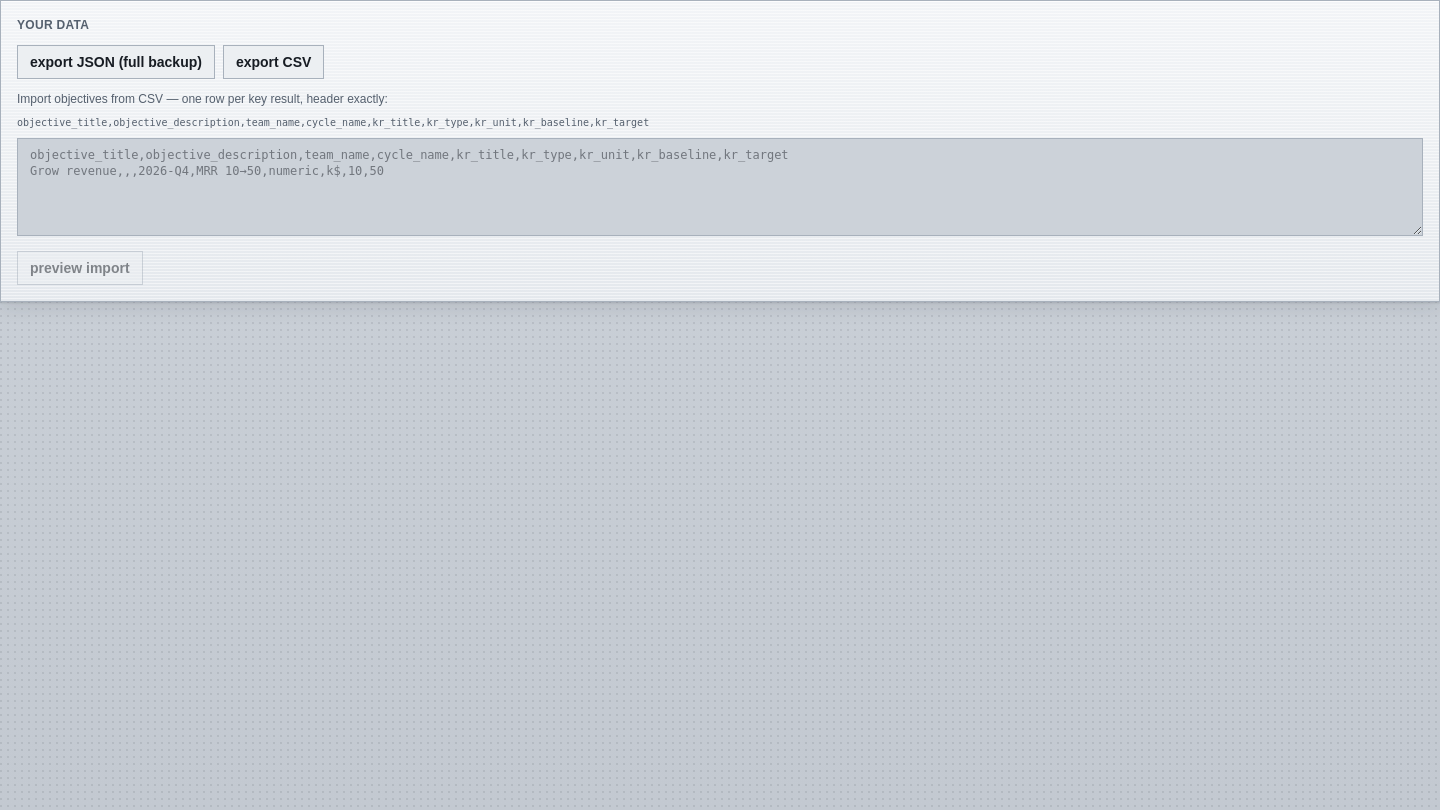
Test: DataCard import flow › previews, surfaces row errors, then commits a clean import
Note: bad preview: error row, no commit button
Type "header..." into the text box with test id "import-csv". click: [720, 187]
box: x1=17 y1=138 x2=1423 y2=236
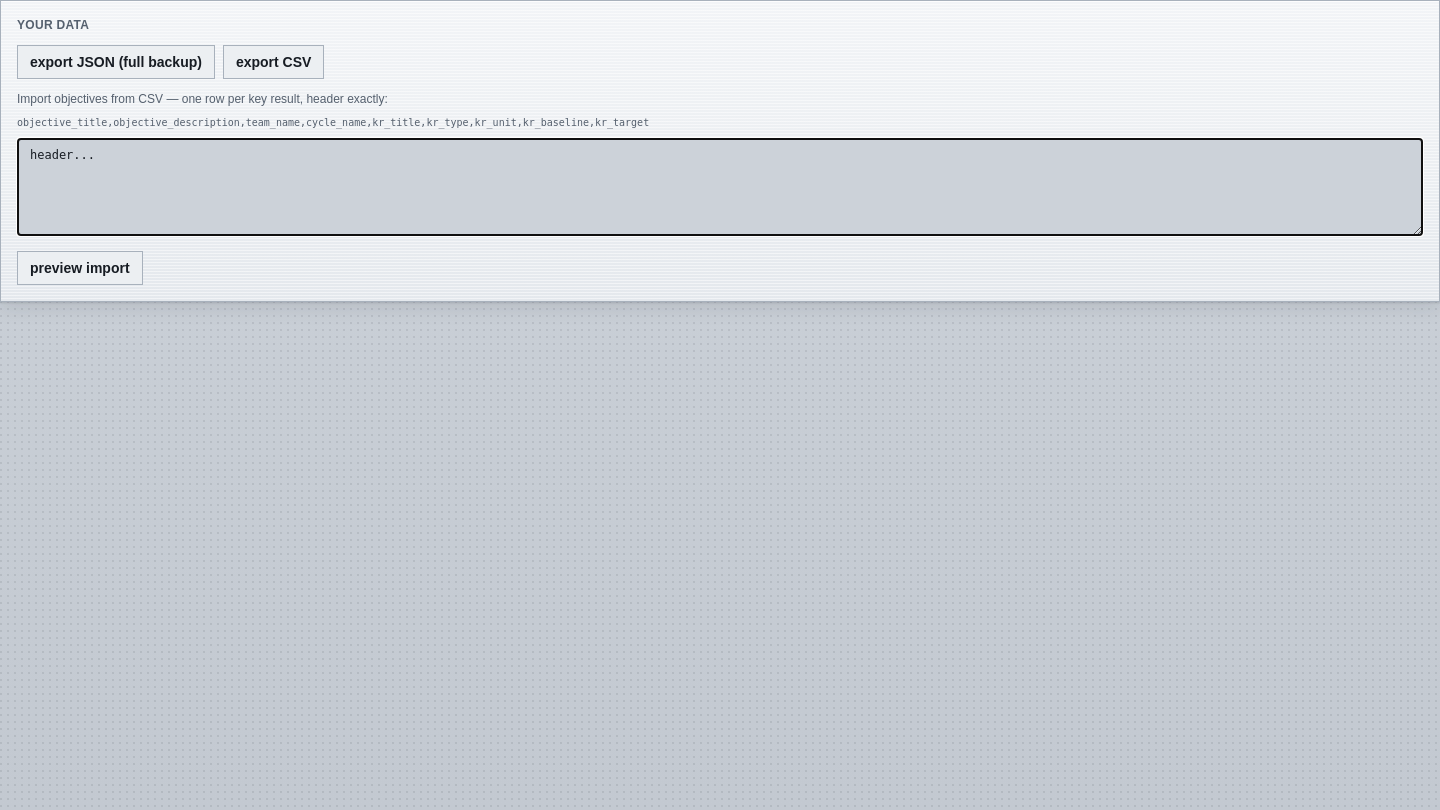
Click the button "preview import". click: [80, 268]
box: x1=17 y1=251 x2=143 y2=285
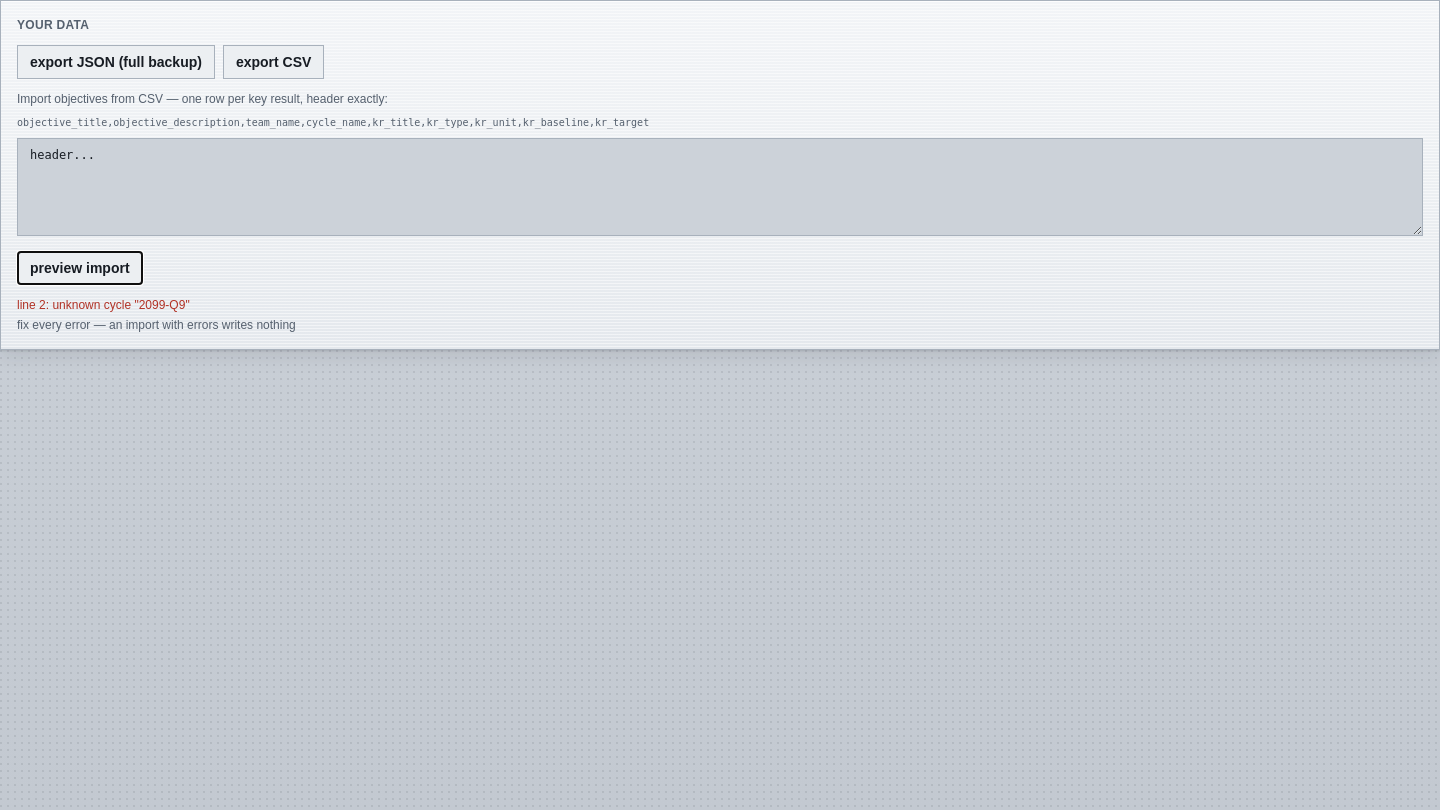
Check: the text "line 2: unknown cycle \"2099-Q9\"" is shown, box x1=17 y1=298 x2=190 y2=312
Note: clean preview → commit appears → import
Type "more" into the text box with test id "import-csv". click: [720, 187]
box: x1=17 y1=138 x2=1423 y2=236
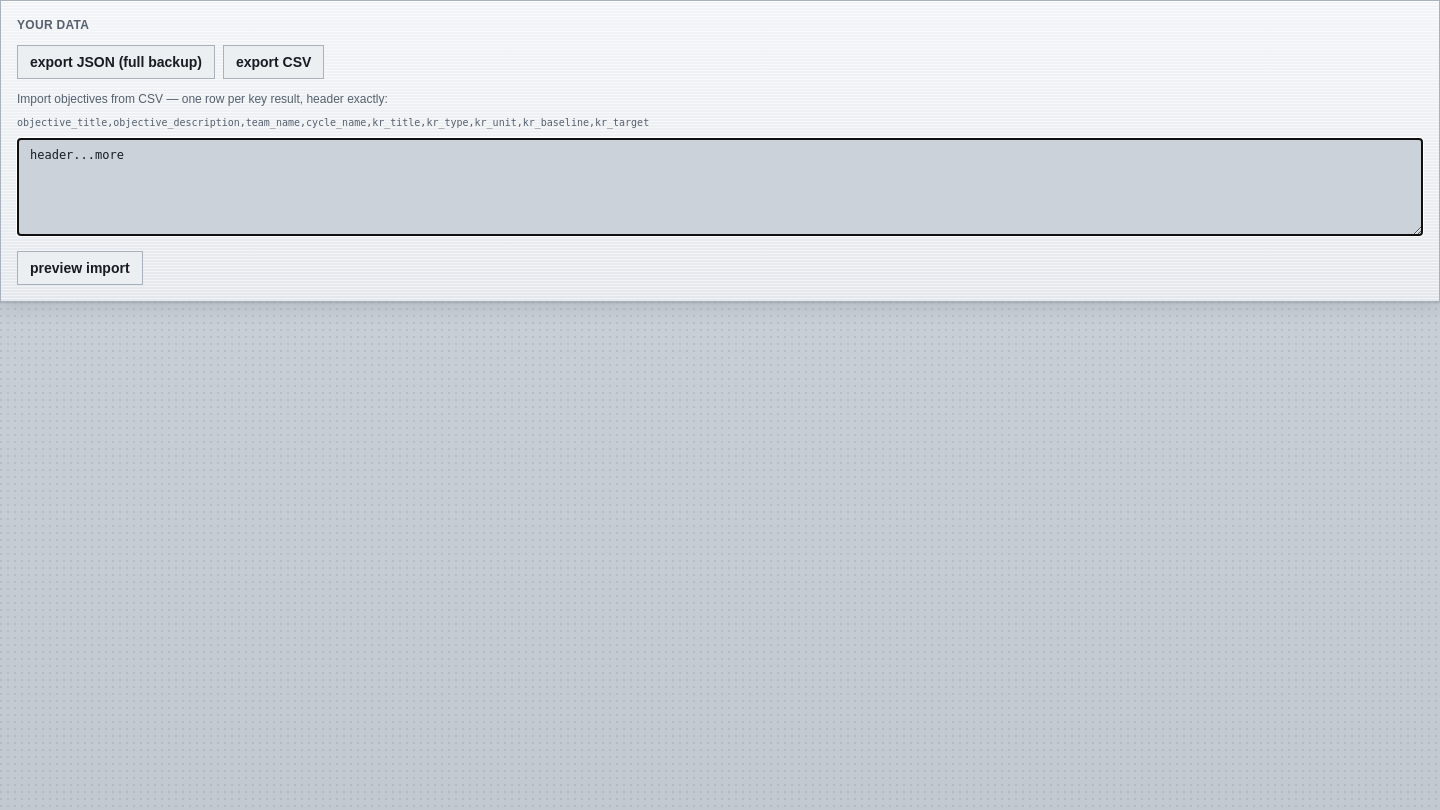
Click the button "preview import". click: [80, 268]
box: x1=17 y1=251 x2=143 y2=285
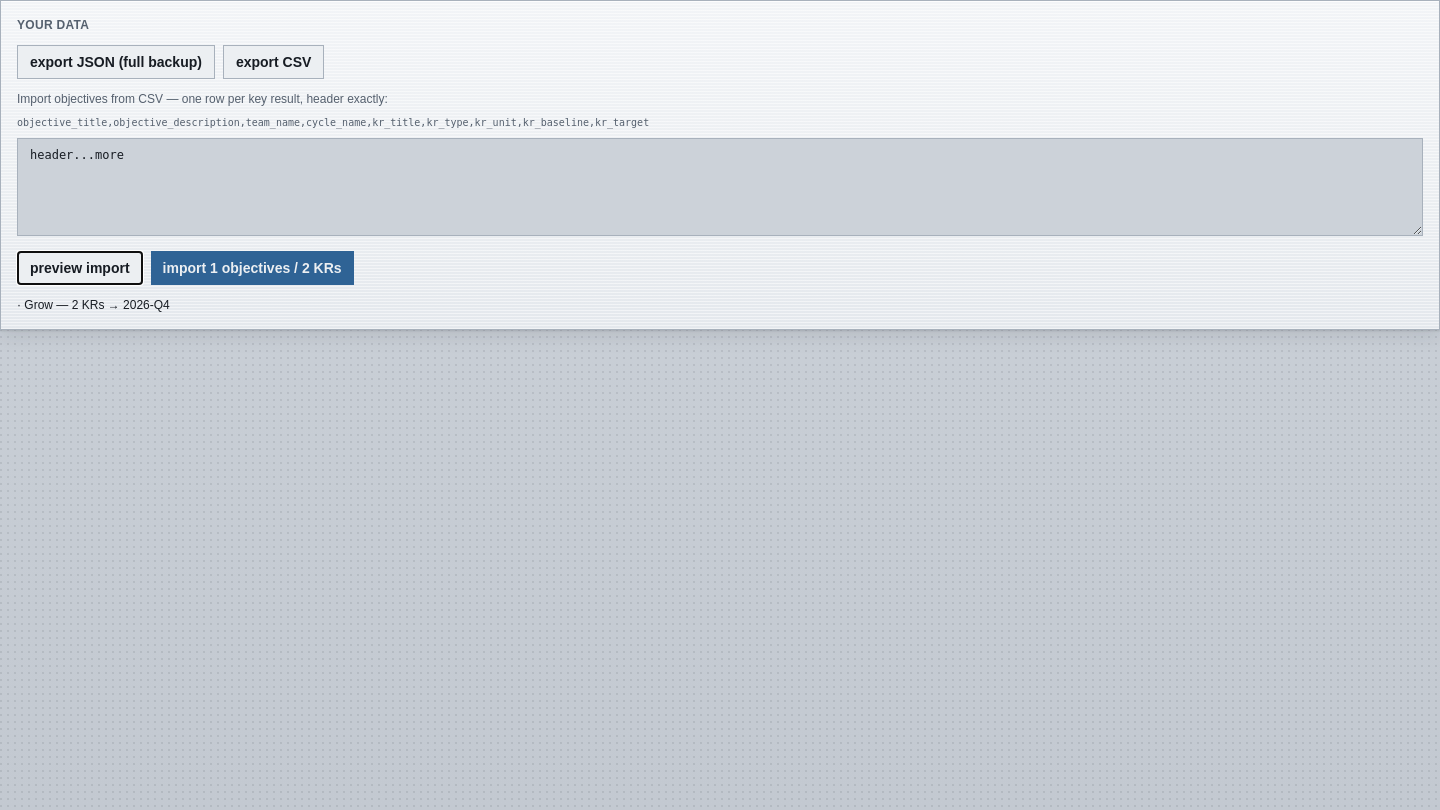
Check: the text "· Grow — 2 KRs → 2026-Q4" is shown, box x1=17 y1=298 x2=170 y2=312
Click the button "import 1 objectives / 2 KRs". click: [252, 268]
box: x1=151 y1=251 x2=354 y2=285
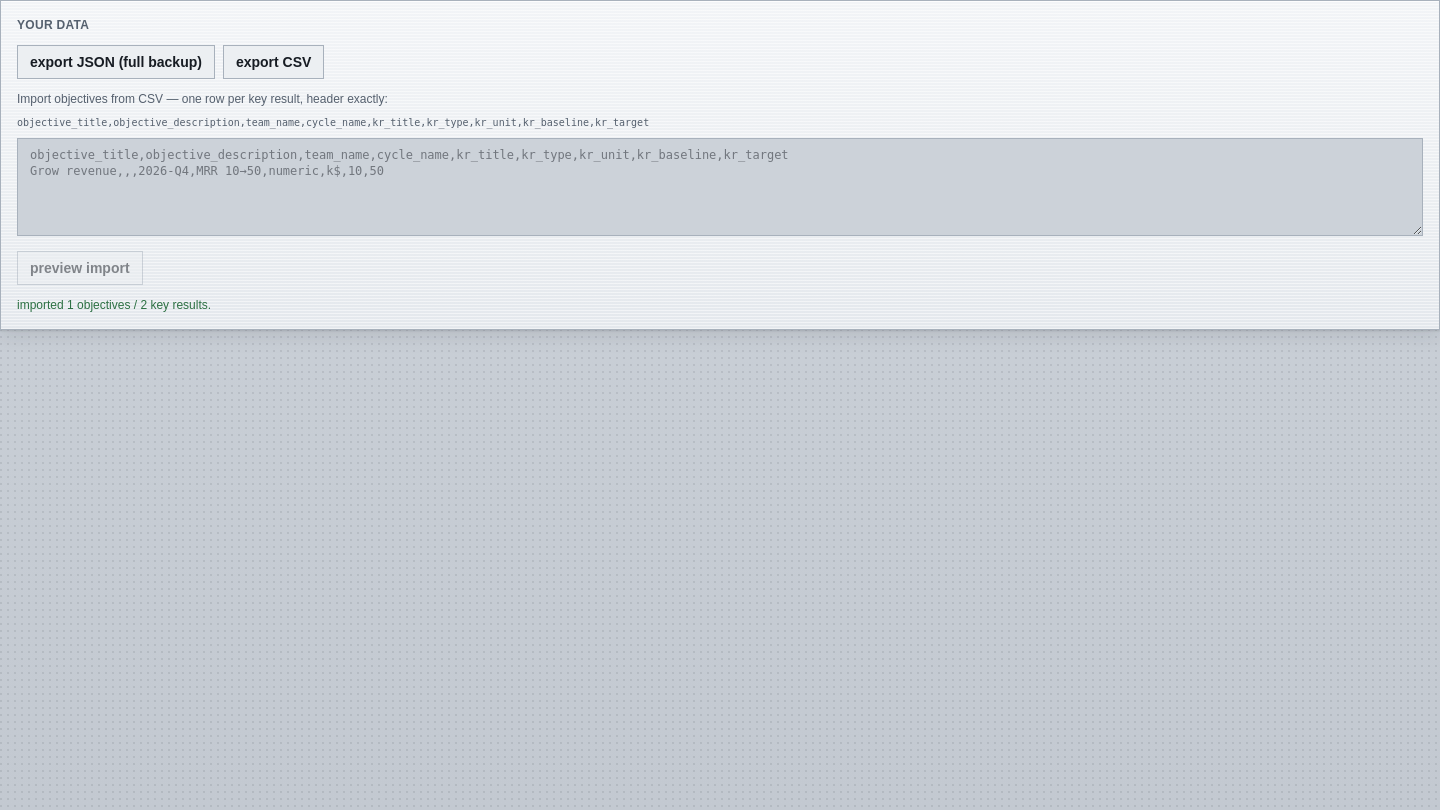
Check: the text "imported 1 objectives / 2 key results." is shown, box x1=17 y1=298 x2=211 y2=312
